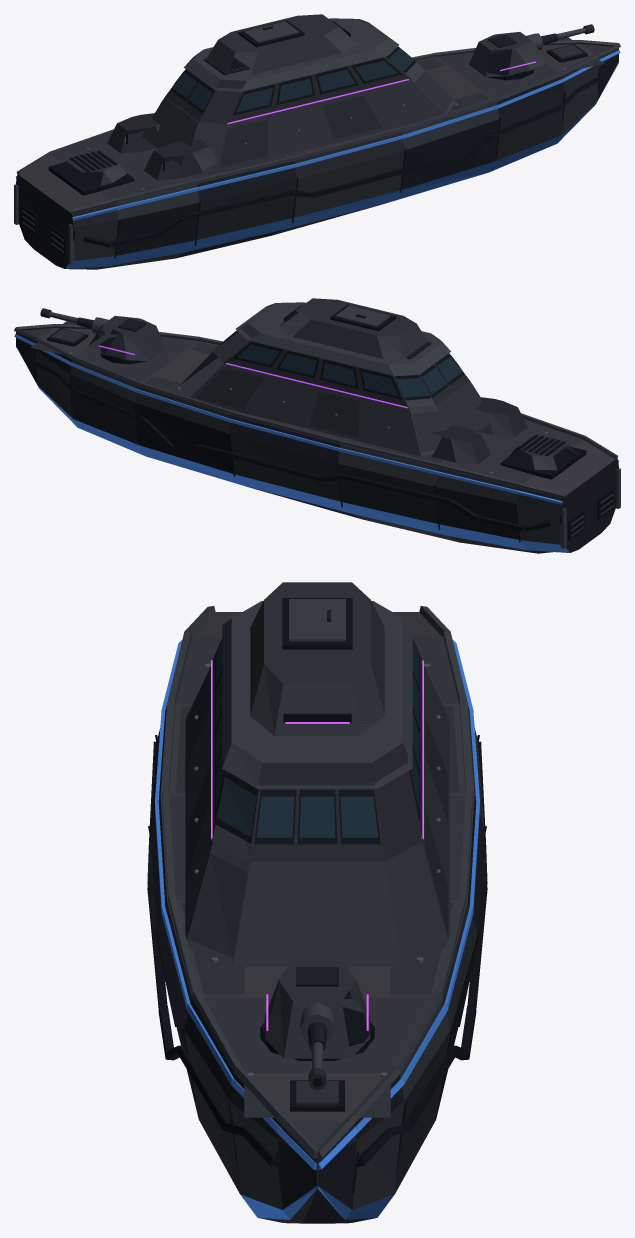
3 views of the same model, one above another, from view 1: azimuth 30°, elevation 25°; view 2: azimuth 150°, elevation 25°; view 3: azimuth 270°, elevation 25° (orthographic). The views are drawn at different scales.
Visible parts, largest first — view 1: citadel-facet-2, hull-3-1, hull-4-1, hull-2-1, stern-transom, hull-5-1, hull-1-1, bridge-visor-roof, hull-3-0, hull-0-9, upper-command-facet-2, bridge-facet-2 (+69 smaller); view 2: citadel-facet-6, hull-3-7, hull-4-7, hull-2-7, stern-transom, hull-5-7, hull-1-7, bridge-visor-roof, hull-3-8, hull-0-9, upper-command-facet-6, bridge-facet-6 (+70 smaller); view 3: citadel-panel-0-0, bridge-visor-roof, upper-command-roof, citadel-underside, hull-5-9, citadel-panel-1-0, bridge-facet-0, upper-command-facet-0, hull-4-9, citadel-facet-0, bridge-roof, hull-6-1 (+62 smaller).
Boxes of the visible parts, x1,y1,x2,y2 form: citadel-facet-2: [214, 79, 444, 172]; hull-3-1: [293, 150, 404, 217]; hull-4-1: [401, 119, 498, 189]; hull-2-1: [196, 180, 296, 239]; stern-transom: [16, 174, 73, 268]; hull-5-1: [495, 90, 563, 160]; hull-1-1: [115, 203, 199, 255]; bridge-visor-roof: [194, 18, 386, 80]; hull-3-0: [294, 132, 404, 179]; hull-0-9: [18, 156, 115, 213]; upper-command-facet-2: [251, 35, 341, 74]; bridge-facet-2: [226, 57, 410, 123]; citadel-facet-6: [190, 363, 420, 456]; hull-3-7: [230, 434, 341, 501]; hull-4-7: [136, 403, 233, 473]; hull-2-7: [338, 464, 438, 523]; stern-transom: [561, 458, 618, 552]; hull-5-7: [71, 374, 139, 444]; hull-1-7: [435, 487, 519, 539]; bridge-visor-roof: [248, 302, 440, 364]; hull-3-8: [230, 416, 340, 463]; hull-0-9: [519, 440, 616, 497]; upper-command-facet-6: [293, 319, 383, 358]; bridge-facet-6: [224, 341, 408, 407]; citadel-panel-0-0: [237, 873, 397, 958]; bridge-visor-roof: [231, 601, 403, 762]; upper-command-roof: [264, 582, 370, 683]; citadel-underside: [384, 842, 447, 963]; hull-5-9: [203, 997, 431, 1072]; citadel-panel-1-0: [188, 853, 247, 958]; bridge-facet-0: [250, 783, 384, 861]; upper-command-facet-0: [274, 684, 360, 736]; hull-4-9: [167, 900, 467, 997]; citadel-facet-0: [233, 861, 401, 966]; bridge-roof: [258, 743, 406, 782]; hull-6-1: [230, 1101, 282, 1209].
Bounding box in the file's own units: 2.1 × 0.662 × 0.5355.
